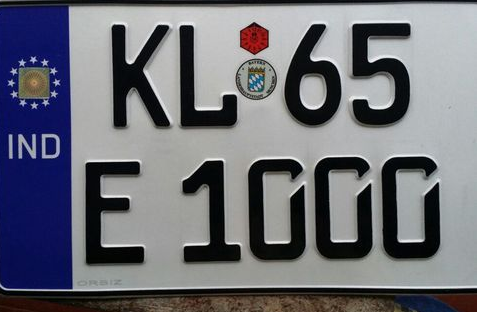0: (377, 152, 443, 261), (311, 155, 377, 261), (244, 155, 308, 263)
1: (181, 156, 244, 264)
5: (344, 19, 416, 126)
6: (284, 20, 342, 128)
E: (79, 156, 152, 270)
K: (109, 19, 174, 128)
L: (174, 21, 242, 132)
